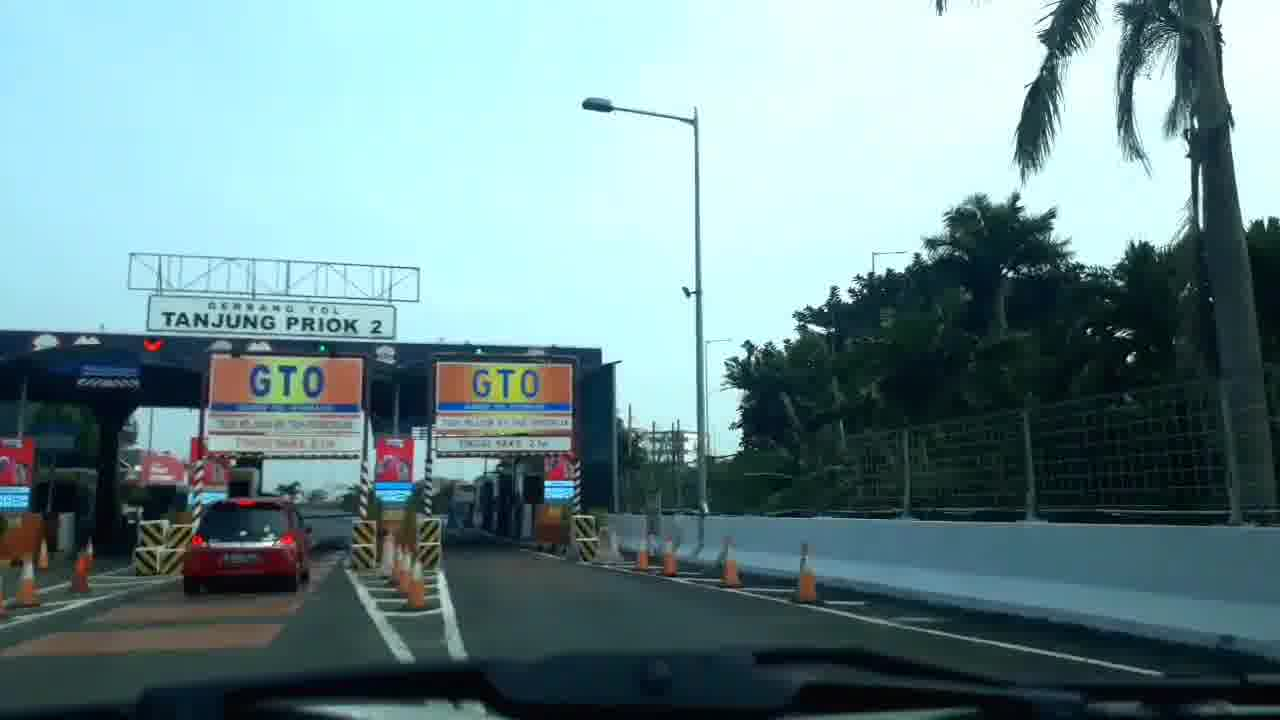plate_positive: (223, 552, 256, 565)
